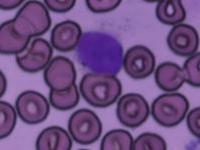L: (74, 28, 124, 76)
